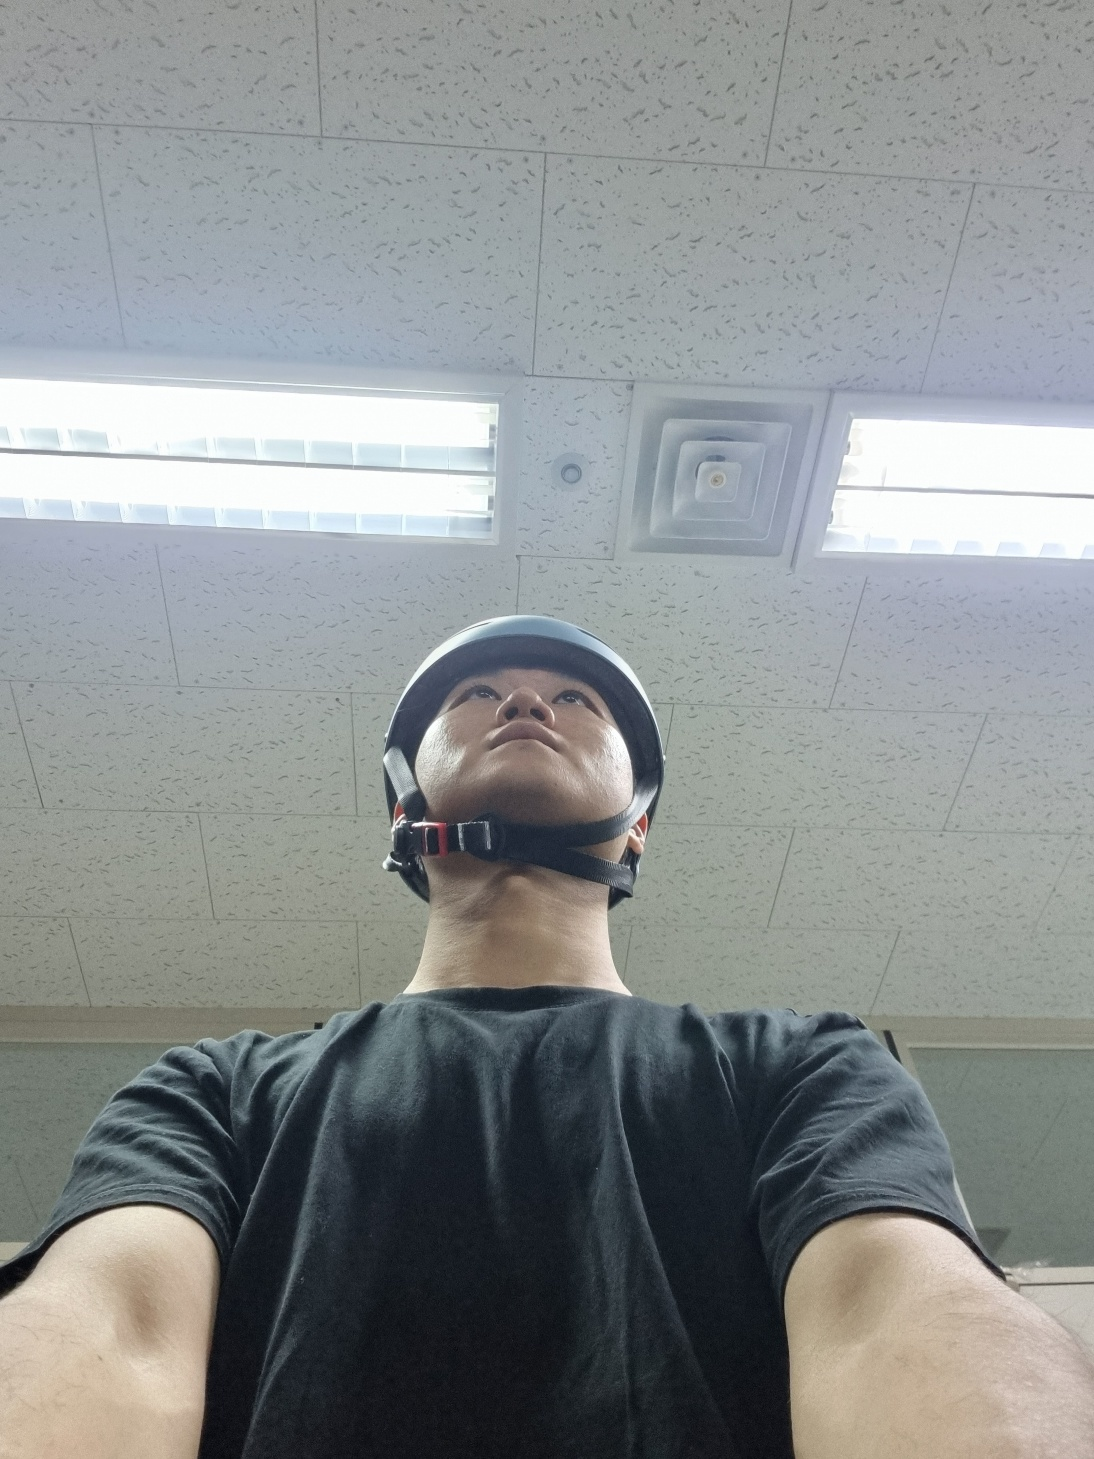Helmet: (338, 545, 696, 947)
